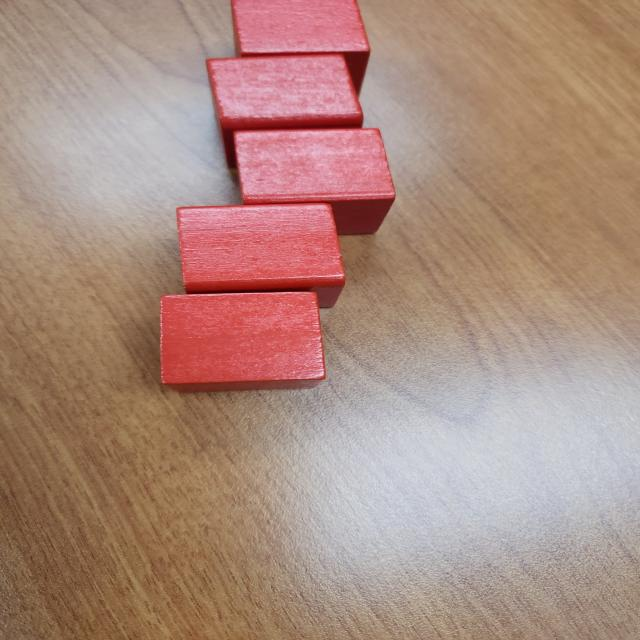red: (230, 126, 399, 237), (204, 55, 365, 170), (176, 202, 346, 308), (159, 290, 326, 394), (229, 0, 371, 104)
